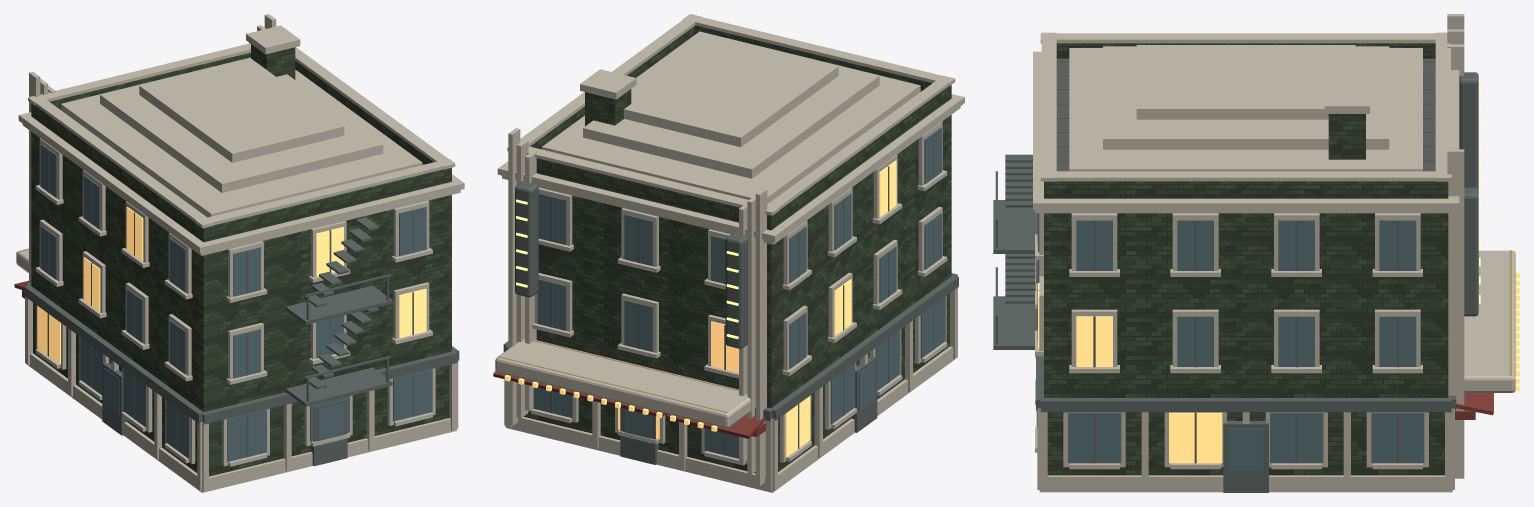
File: goldenlily.glb
The picture shows the model from 3 angles, left to right: view 1: azimuth 30°, elevation 25°; view 2: azimuth 150°, elevation 25°; view 3: azimuth 270°, elevation 25°; orthographic projection. The views are drawn at different scales.
Visible parts, largest first — view 1: foundation, masonry, window pane, roof tar seam, window pane.005; view 2: foundation, masonry, window pane, roof tar seam, window pane.005, canvas awning, marquee brass edge, roof, neon blade tube; view 3: foundation, masonry, window pane, roof tar seam, window pane.005, roof, canvas awning.
Part boxes in pixels (x1,y1,x2,y2): foundation: [16, 14, 464, 492]; masonry: [31, 44, 451, 476]; window pane: [40, 144, 432, 461]; roof tar seam: [24, 149, 459, 466]; window pane.005: [37, 207, 426, 364]; foundation: [495, 14, 964, 492]; masonry: [523, 25, 951, 473]; window pane: [533, 127, 945, 458]; roof tar seam: [503, 133, 958, 464]; window pane.005: [504, 160, 896, 457]; canvas awning: [493, 371, 765, 438]; marquee brass edge: [498, 340, 738, 412]; roof: [537, 100, 946, 230]; neon blade tube: [516, 199, 738, 339]; foundation: [1033, 14, 1515, 492]; masonry: [1044, 43, 1448, 475]; window pane: [1038, 213, 1424, 470]; roof tar seam: [993, 60, 1478, 492]; window pane.005: [1038, 271, 1519, 463]; roof: [1056, 58, 1435, 198]; canvas awning: [1455, 393, 1493, 419].
Bounding box in the file's own units: 10.65 × 11.98 × 15.61.
Materials: 9 (2 with a texture image).
